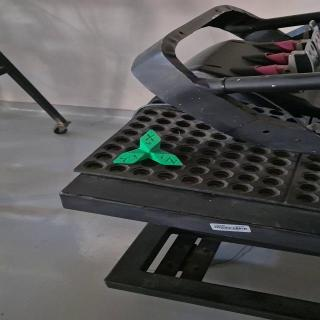eje: (112, 129, 184, 166)
